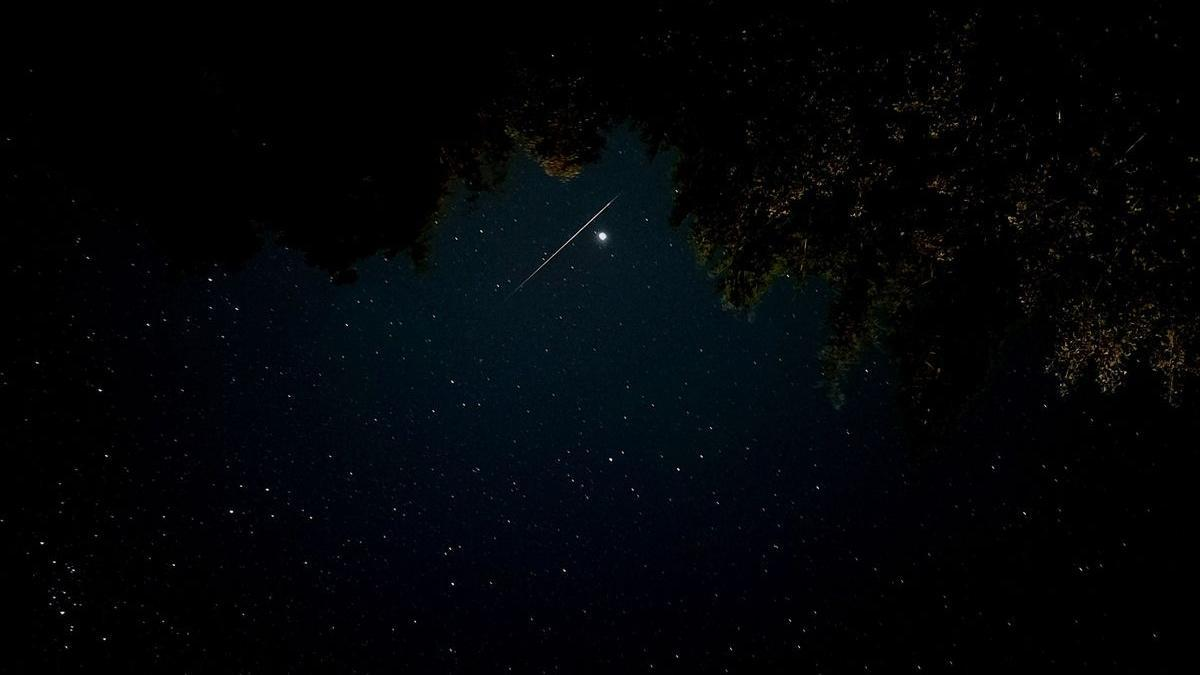meteorite: (557, 189, 629, 254)
